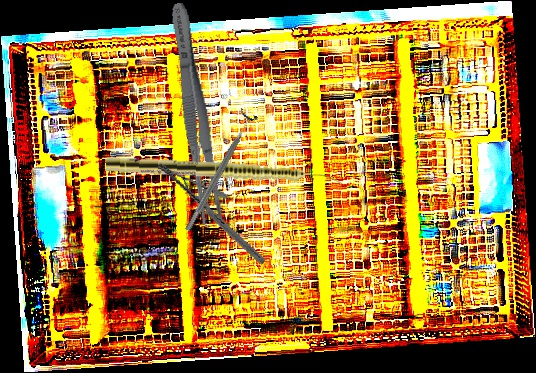Dressing Forceps: (163, 1, 228, 226)
Fixation Ring: (178, 107, 259, 236)
Handpiece: (105, 155, 344, 188)
Needle Holder: (140, 161, 283, 266)
